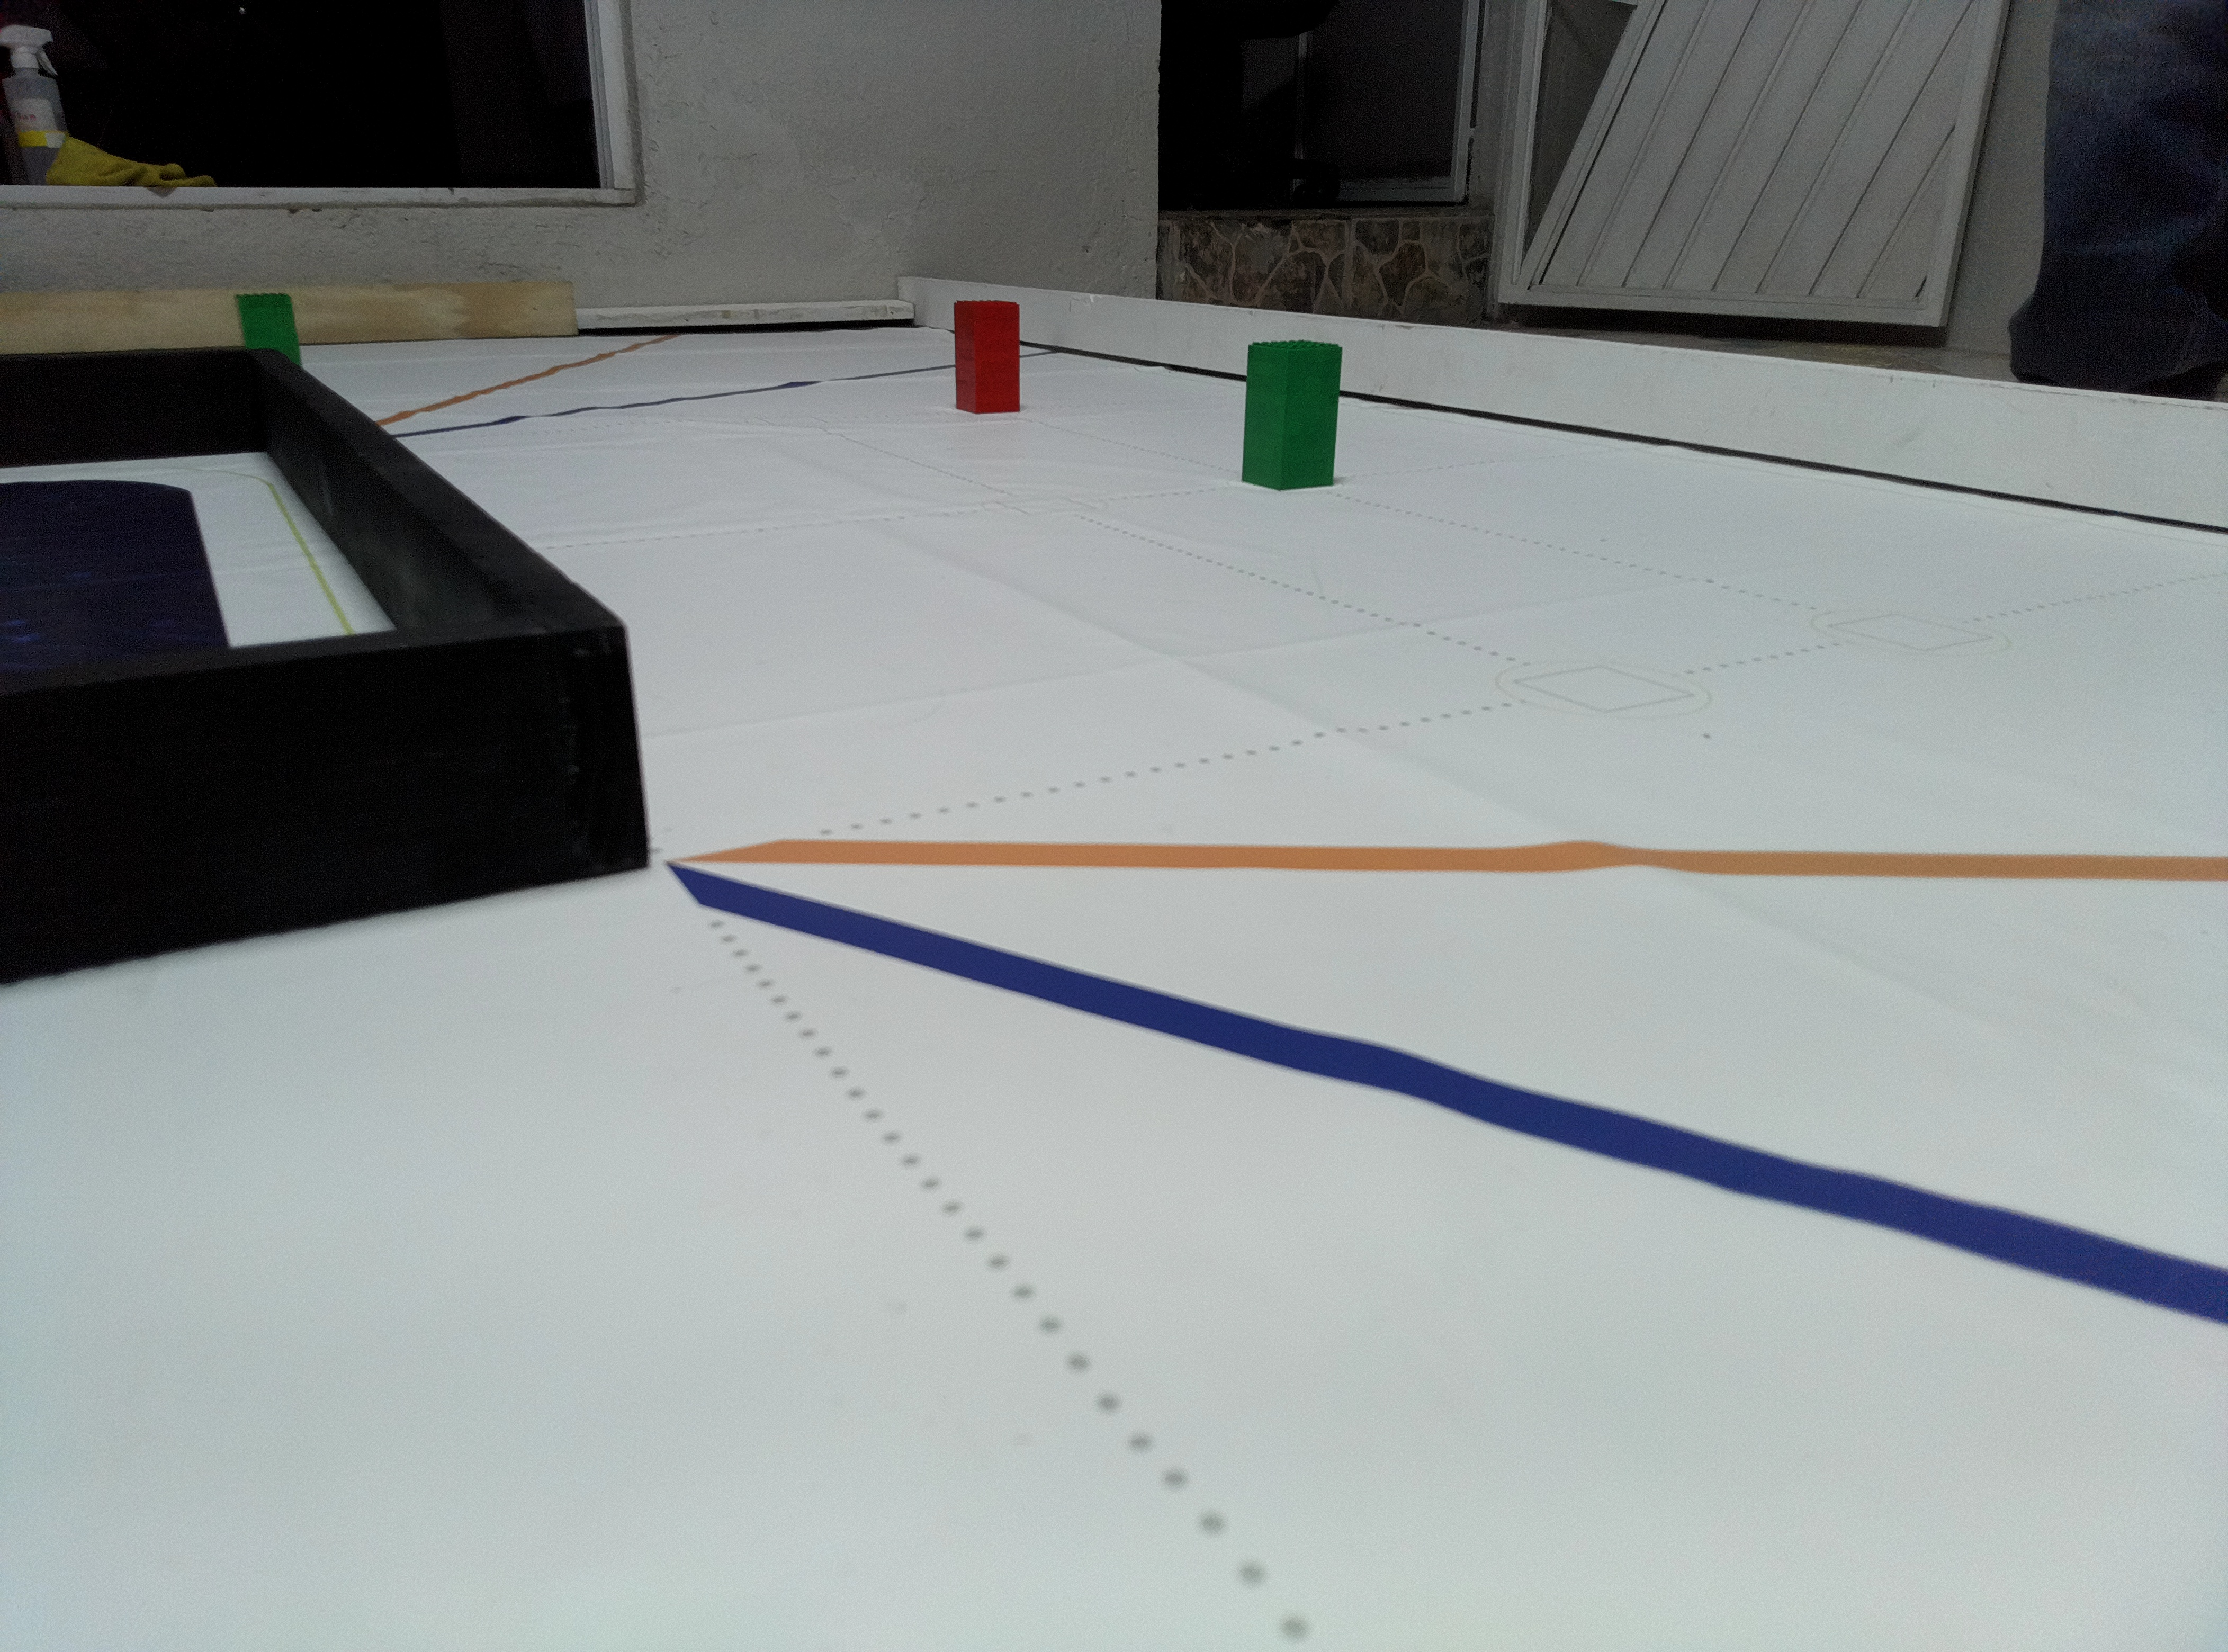greenbox: (1240, 338, 1344, 497), (231, 293, 301, 349), (277, 350, 304, 367)
redbox: (952, 299, 1021, 416), (950, 358, 953, 359)
